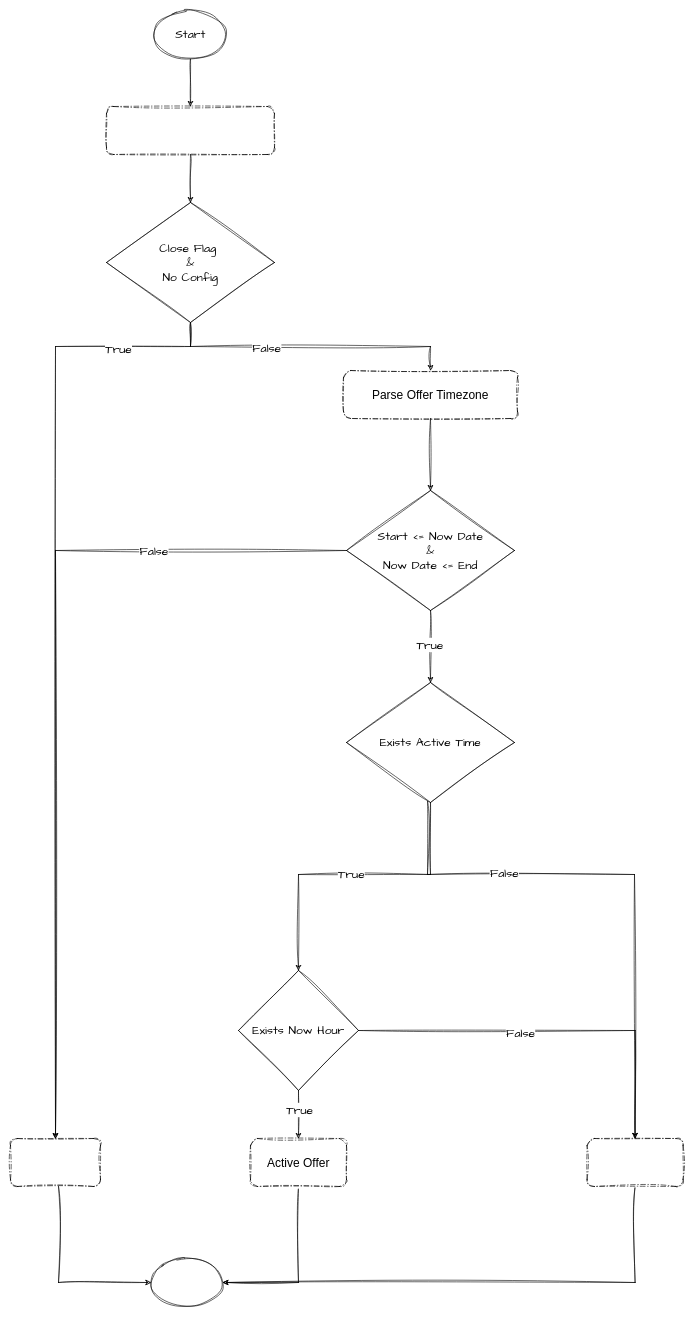
Some shapes in this 694 by 1317 pixel diagram are drawn without their labels. Here are the shapes that lost their labels. From the top down, the centre of each, then its label:
the point at 190,130: Set Default Timezone(+8)
the point at 55,1162: Do Nothing
the point at 634,1162: Close Offer
the point at 186,1282: End
